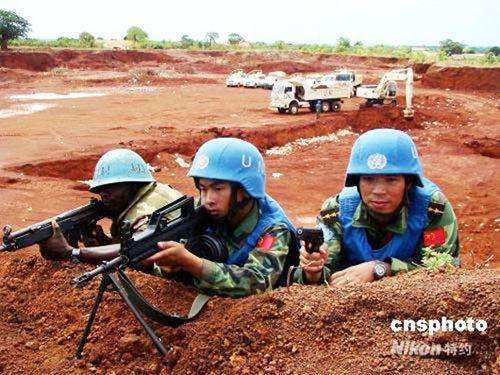blue: (185, 133, 268, 222), (346, 126, 419, 217), (86, 144, 154, 213)
